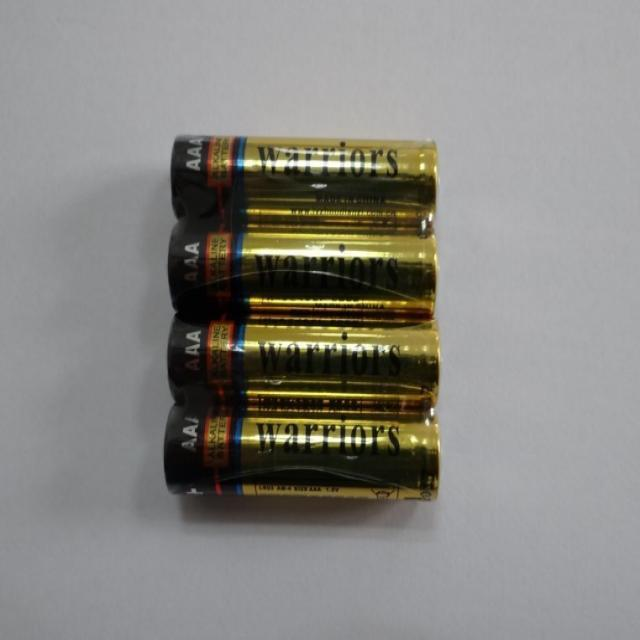AAA: (155, 415, 442, 510), (163, 220, 443, 316), (165, 121, 442, 215), (164, 321, 446, 412)
